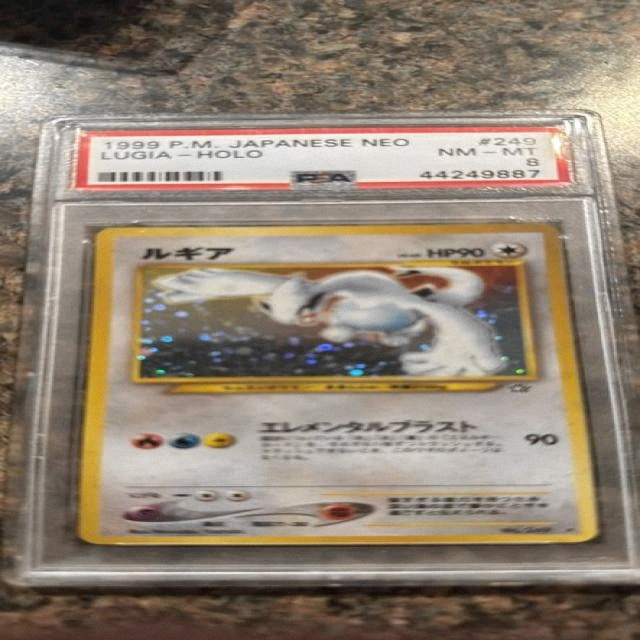card: (76, 223, 605, 546)
